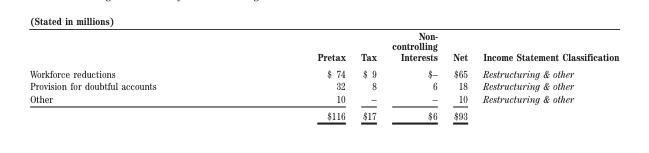table: (29, 29, 618, 121)
table column: (29, 29, 236, 121), (474, 29, 618, 121), (236, 29, 352, 121), (383, 29, 444, 121), (352, 29, 383, 121), (444, 29, 474, 121)
table column header: (29, 29, 618, 64)
table row: (29, 29, 618, 64), (29, 64, 618, 79), (29, 92, 618, 107), (29, 107, 618, 121), (29, 79, 618, 92)
